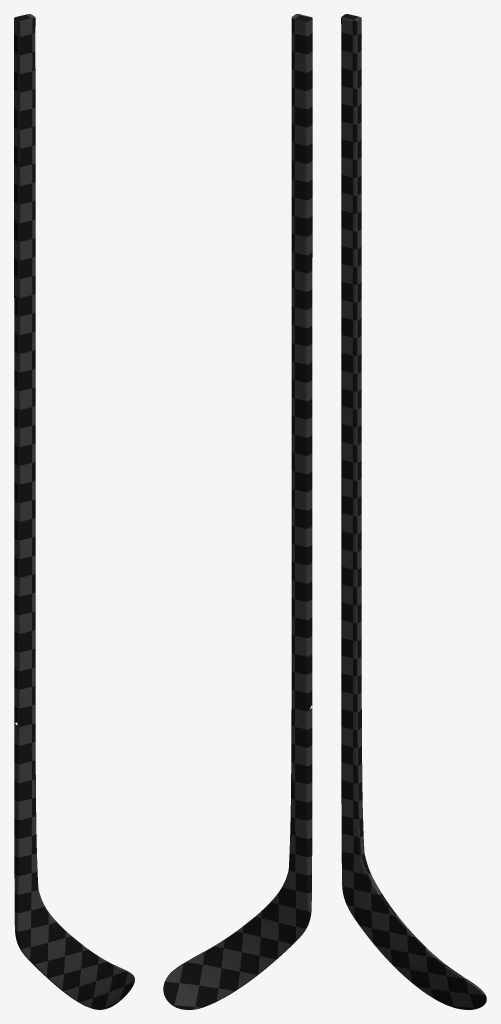
File: P28-1-4-ST-LIE5_5.glb
The picture shows the model from 3 angles, left to right: view 1: azimuth 30°, elevation 25°; view 2: azimuth 150°, elevation 25°; view 3: azimuth 330°, elevation 25°; orthographic projection. The views are drawn at different scales.
Visible parts, largest first — view 1: geometry_0; view 2: geometry_0; view 3: geometry_0.
Part boxes in pixels (box(x1,y1,x2,y2)): geometry_0: box(14, 14, 134, 1009); geometry_0: box(163, 14, 312, 1009); geometry_0: box(341, 14, 486, 1009).
Bounding box in the file's own units: 226 × 1650 × 65.81.
Materials: 1 (1 with a texture image).
